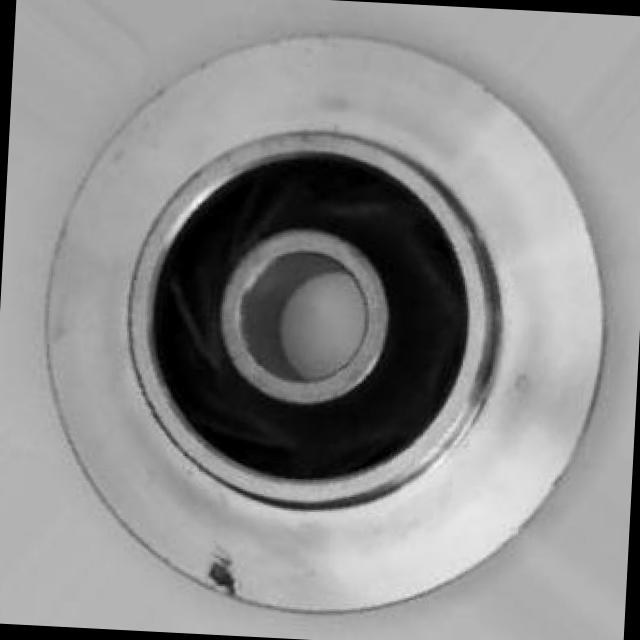Defect: (202, 554, 243, 602)
